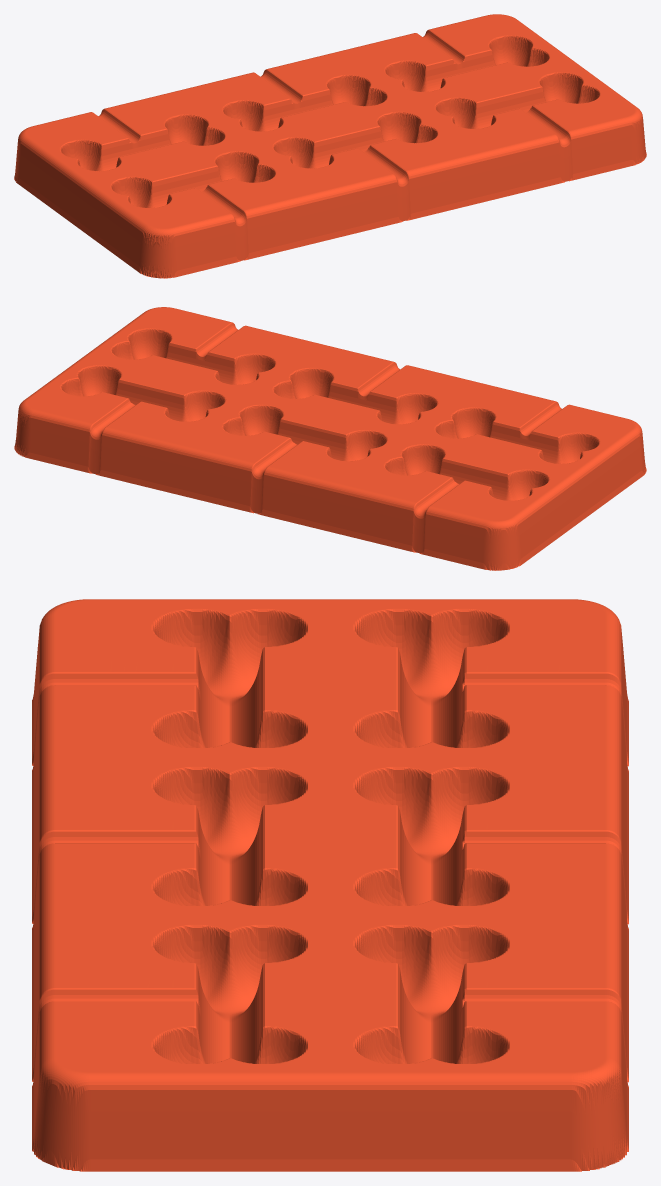
The model's file is mold.glb.
3 views of the same model, one above another, from view 1: azimuth 30°, elevation 25°; view 2: azimuth 150°, elevation 25°; view 3: azimuth 270°, elevation 25° (orthographic). The views are drawn at different scales.
Visible parts, largest first — view 1: geometry_0; view 2: geometry_0; view 3: geometry_0.
Part boxes in pixels (left/top/right/bottom): geometry_0: left=14, top=14, right=646, bottom=278; geometry_0: left=14, top=307, right=646, bottom=570; geometry_0: left=32, top=599, right=628, bottom=1171.
Size of the model in its own units: 0.1824 by 0.0155 by 0.0937.
